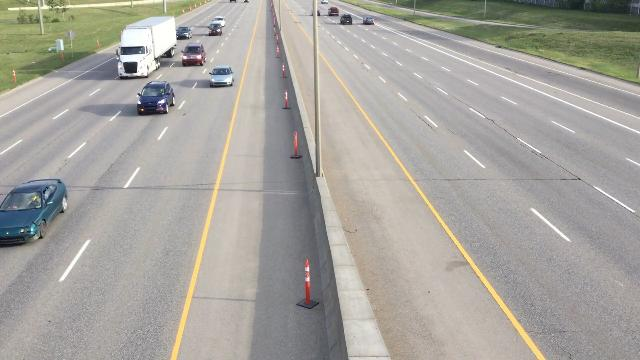car: (0, 179, 69, 247), (136, 80, 177, 119), (179, 42, 208, 67), (209, 66, 236, 88), (177, 24, 191, 40), (208, 23, 223, 36), (210, 16, 228, 25), (363, 16, 376, 27)
pickup-truck: (340, 13, 354, 26), (328, 7, 340, 16)
truck: (116, 14, 177, 81)
